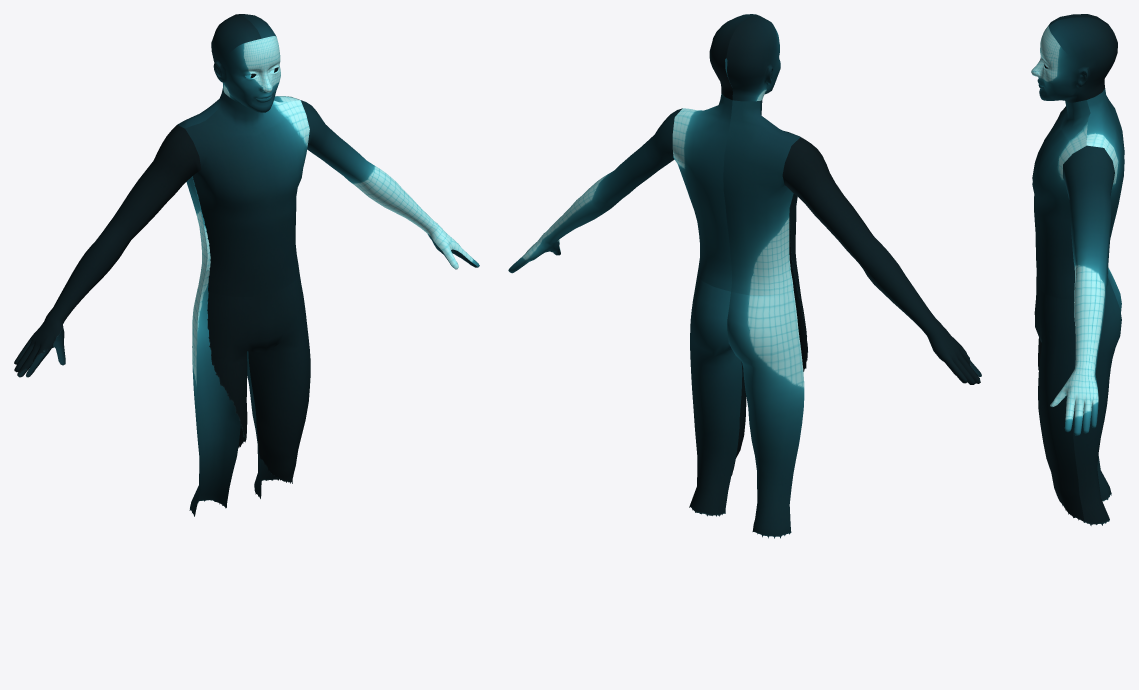
The model's file is Sims_Male.fbx.
The picture shows the model from 3 angles, left to right: view 1: azimuth 30°, elevation 25°; view 2: azimuth 150°, elevation 25°; view 3: azimuth 270°, elevation 25°; orthographic projection. The views are drawn at different scales.
Visible parts, largest first — view 1: head_geom.005; view 2: head_geom.005; view 3: head_geom.005.
Part boxes in pixels (left/top/right/bottom): head_geom.005: left=14, top=14, right=479, bottom=516; head_geom.005: left=508, top=14, right=981, bottom=538; head_geom.005: left=1031, top=14, right=1124, bottom=525.
Size of the model in its own units: 144 by 187 by 30.04.
